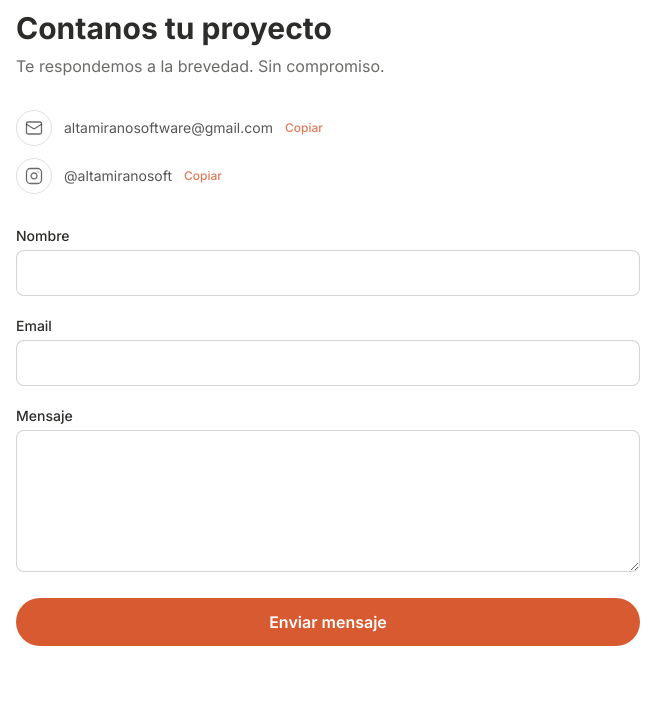
Scenario: ContactSection — estados de UI › estado de error: muestra el mensaje de error ante una respuesta 500
The width and height of the screenshot is (657, 703).
Type "Axel Altamirano" into the field labelled "Nombre" at (328, 273), box [16, 250, 640, 296]
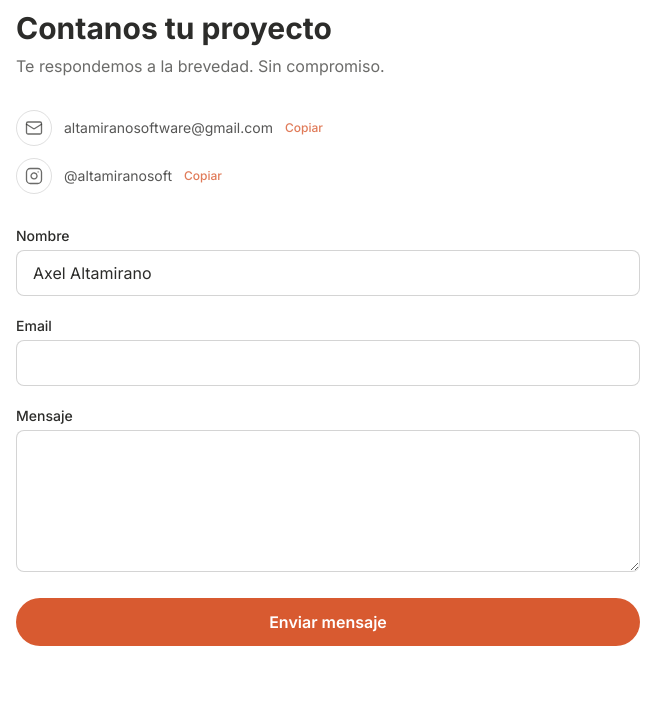
Type "axel@example.com" into the field labelled "Email" at (328, 363), box [16, 340, 640, 386]
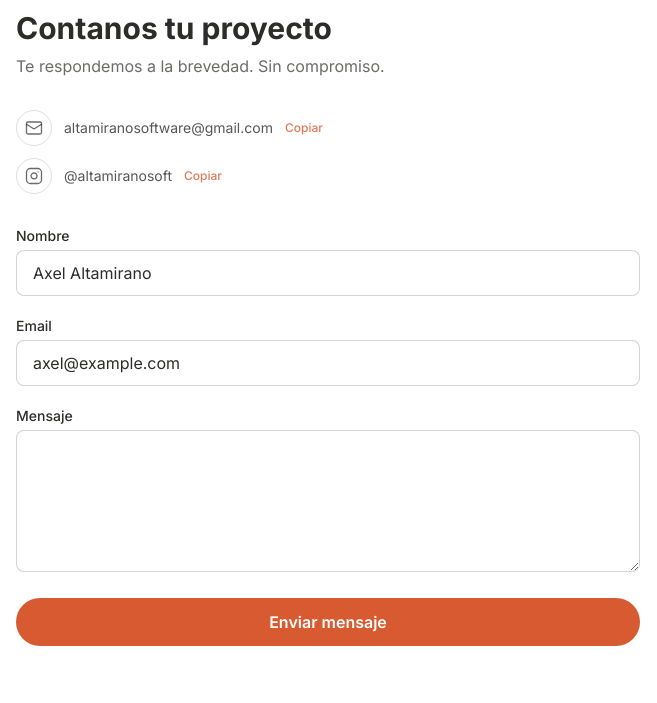
Type "Quiero cotizar un sistema para mi negocio." into the text box labelled "Mensaje" at (328, 501), box [16, 430, 640, 572]
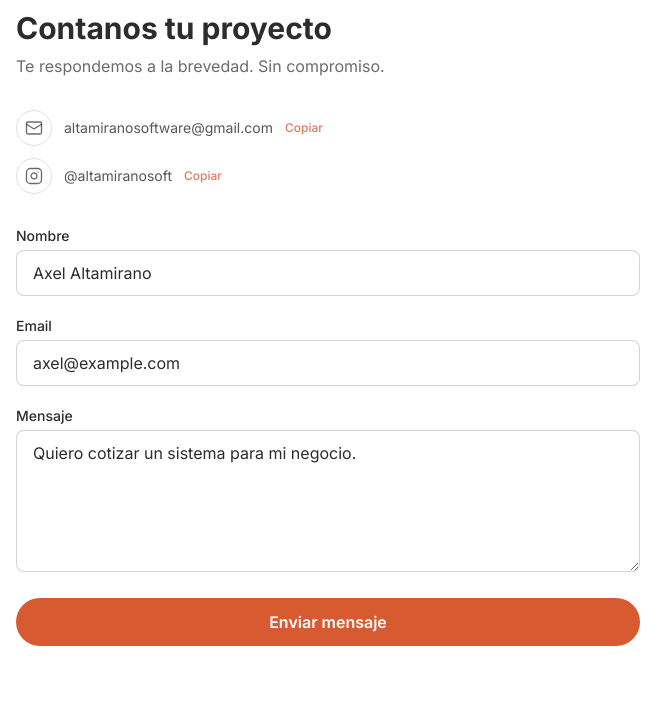
Click the button "Enviar mensaje" at (328, 622), box [16, 598, 640, 646]
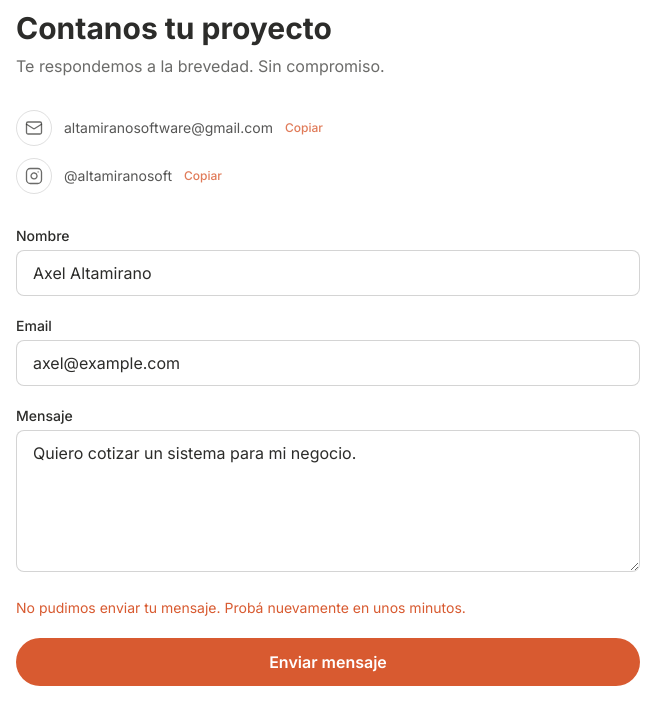
Expected: the message reads "No pudimos enviar tu mensaje. Probá nuevamente en unos minutos.", [16, 599, 466, 616]
